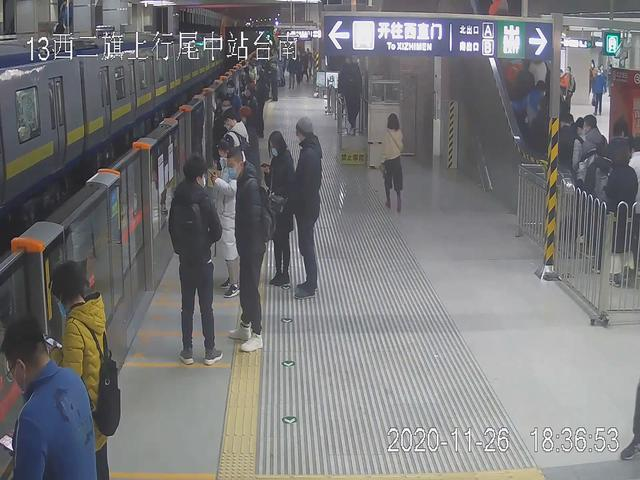person: (46, 259, 124, 480), (2, 316, 95, 480), (169, 157, 223, 361), (222, 147, 271, 354), (293, 106, 327, 298), (264, 128, 293, 282), (379, 111, 409, 208), (339, 56, 364, 139)
